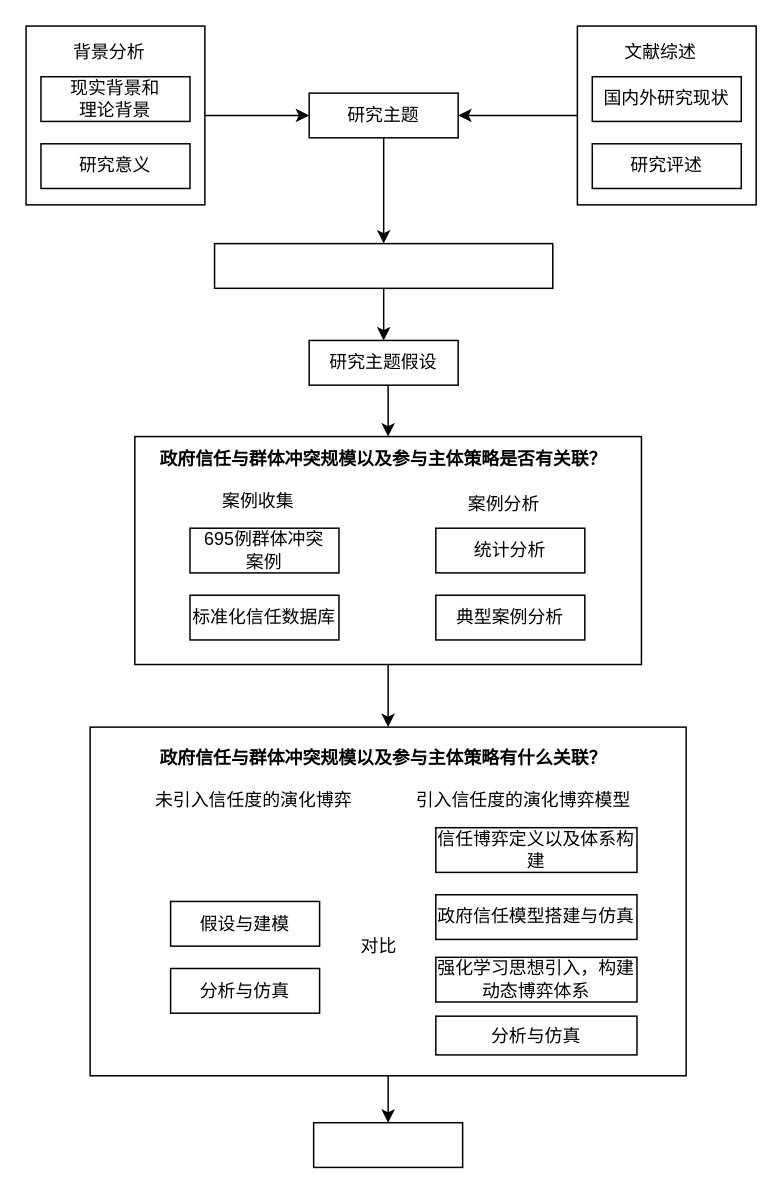
This 782x1193 diagram has some shape labels left out. Each missing label, with the box of its shape:
政府信任在群体冲突中的作用机制: (213, 242, 553, 288)
研究结论与贡献: (312, 1121, 463, 1167)
